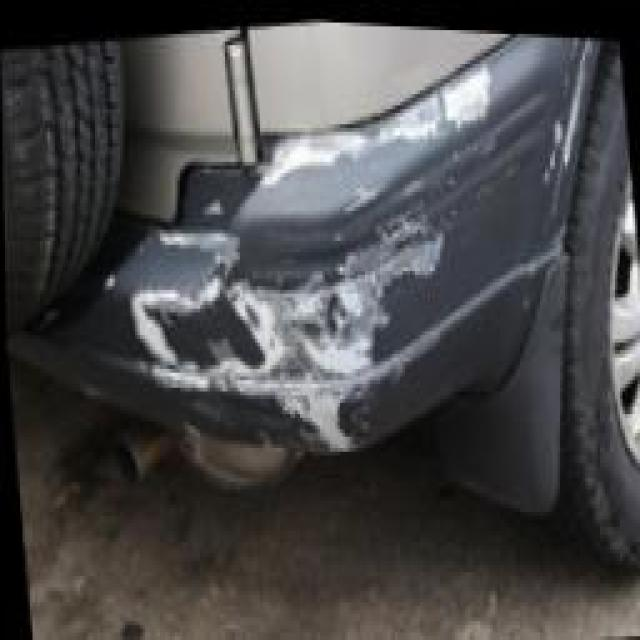Bumper: (105, 4, 622, 501)
